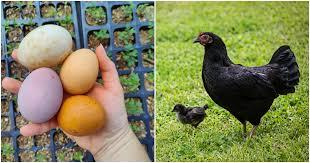egg: (18, 63, 63, 126), (17, 25, 74, 66), (58, 96, 110, 135), (62, 49, 100, 93)
